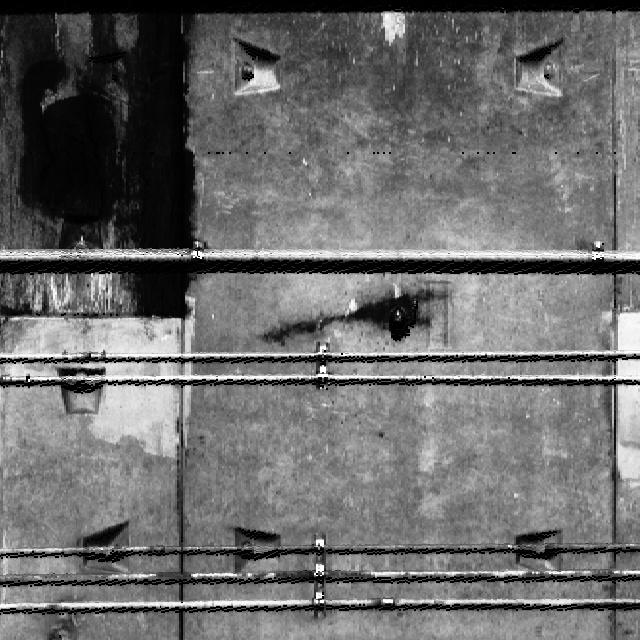leakage: (0, 0, 216, 310)
